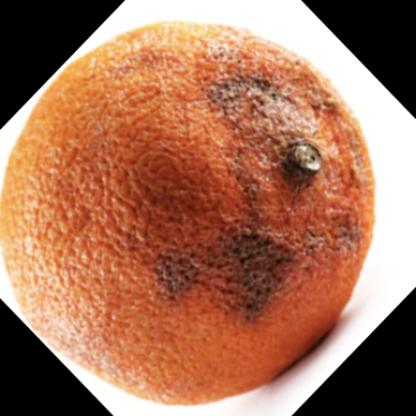rotten: (3, 23, 374, 407)
